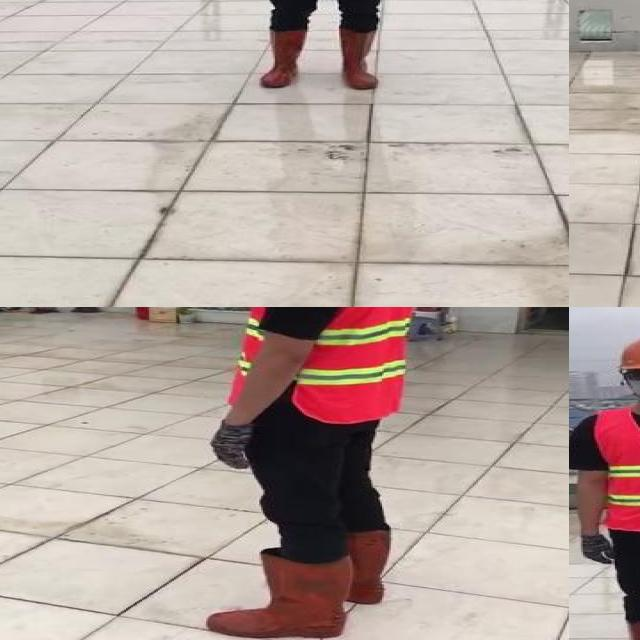boots: (206, 554, 361, 639), (298, 528, 396, 609), (261, 27, 305, 89), (337, 28, 380, 90)
face_mask: (620, 366, 640, 401)
glasses: (622, 366, 640, 384)
hand_glove: (212, 418, 252, 473), (579, 535, 617, 565)
head_helmet: (614, 335, 640, 373)
person: (190, 307, 427, 640), (569, 331, 640, 640), (230, 0, 426, 87)
vest: (226, 307, 416, 422), (593, 406, 640, 532)
